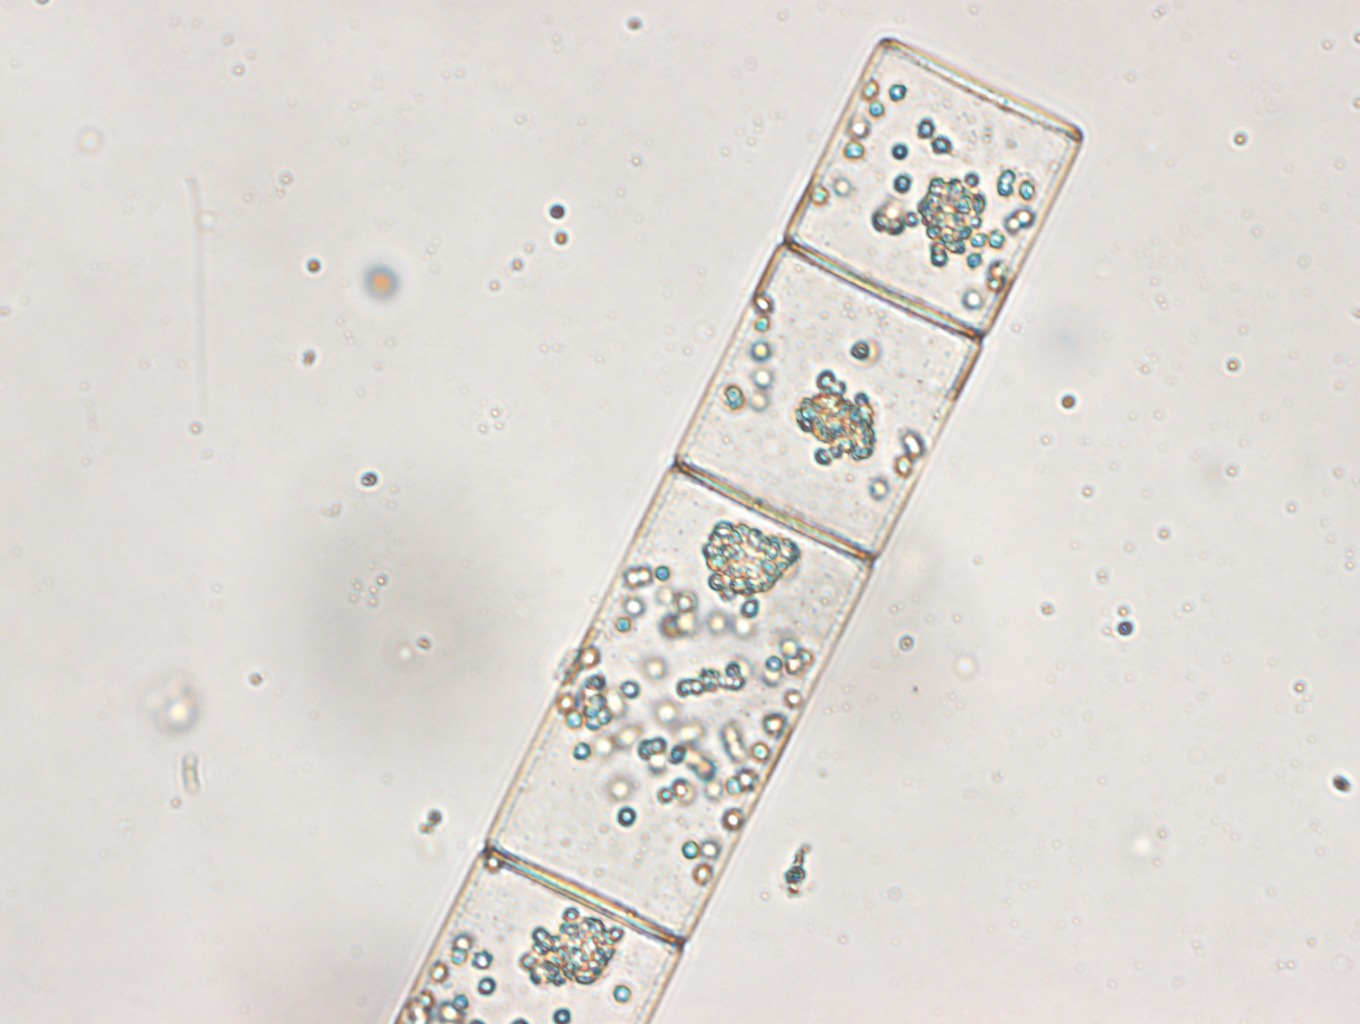guinardia flaccida: (391, 35, 1083, 1024)
